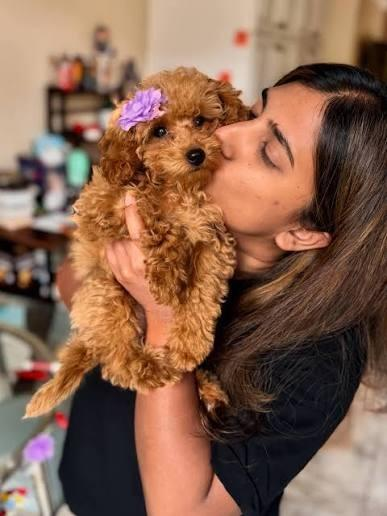puppy-dog: (21, 67, 254, 423)
